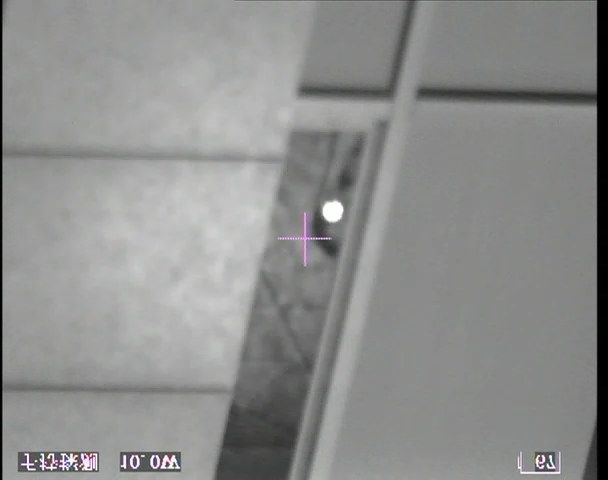my: (319, 197, 344, 223)
